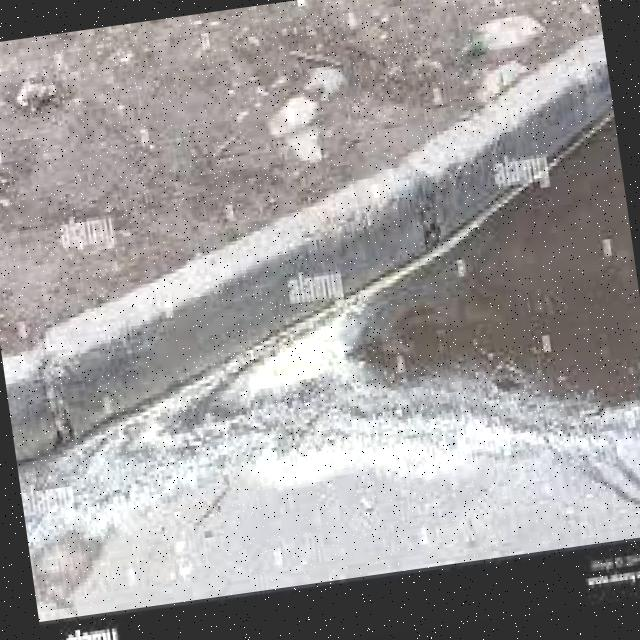curb: (1, 206, 321, 468), (300, 119, 492, 304), (478, 38, 618, 171)
